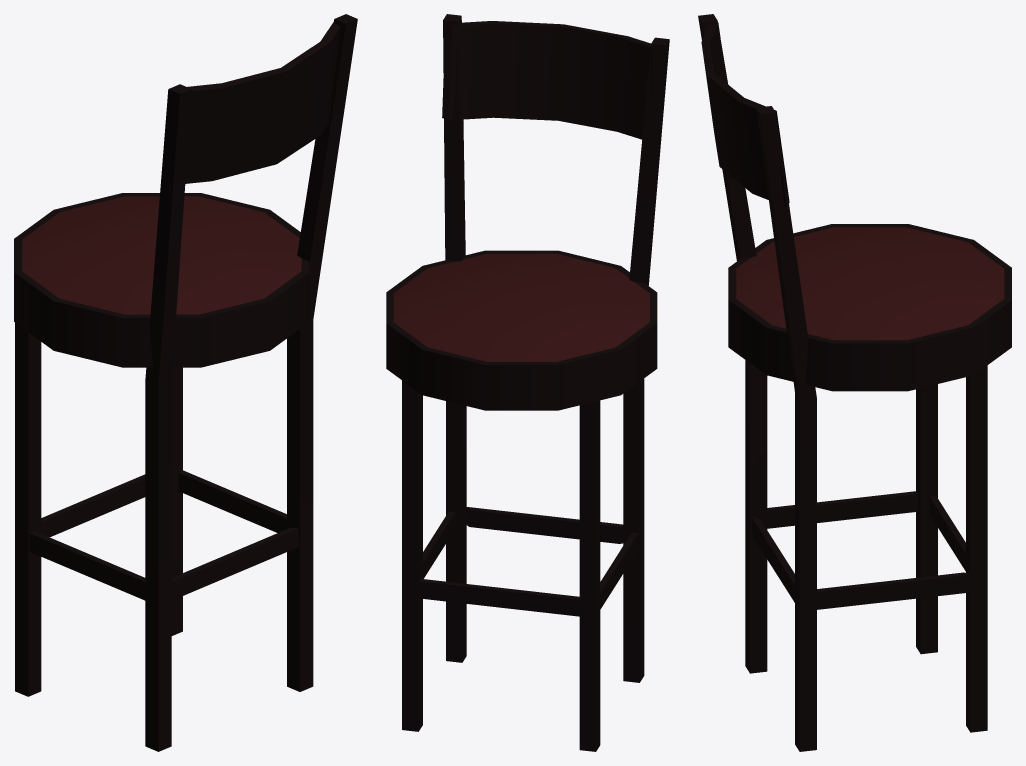
File: Stool2.FBX
The picture shows the model from 3 angles, left to right: view 1: azimuth 30°, elevation 25°; view 2: azimuth 150°, elevation 25°; view 3: azimuth 270°, elevation 25°; orthographic projection. The views are drawn at different scales.
Parts seen in each view (by area): view 1: Stool2; view 2: Stool2; view 3: Stool2.
Boxes of the visible parts, left/top/right/bottom form: Stool2: left=14, top=14, right=357, bottom=751; Stool2: left=386, top=14, right=669, bottom=751; Stool2: left=698, top=14, right=1011, bottom=751.
Size of the model in its own units: 9.75 by 23.63 by 10.36.
